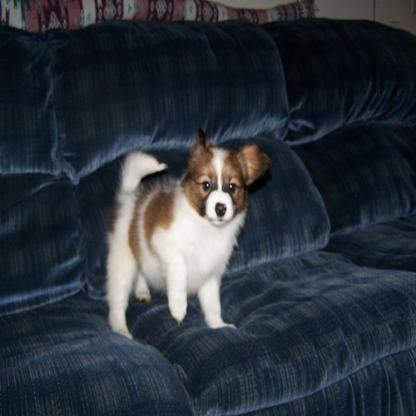dog: (105, 127, 271, 340)
sofa: (0, 17, 415, 415)
